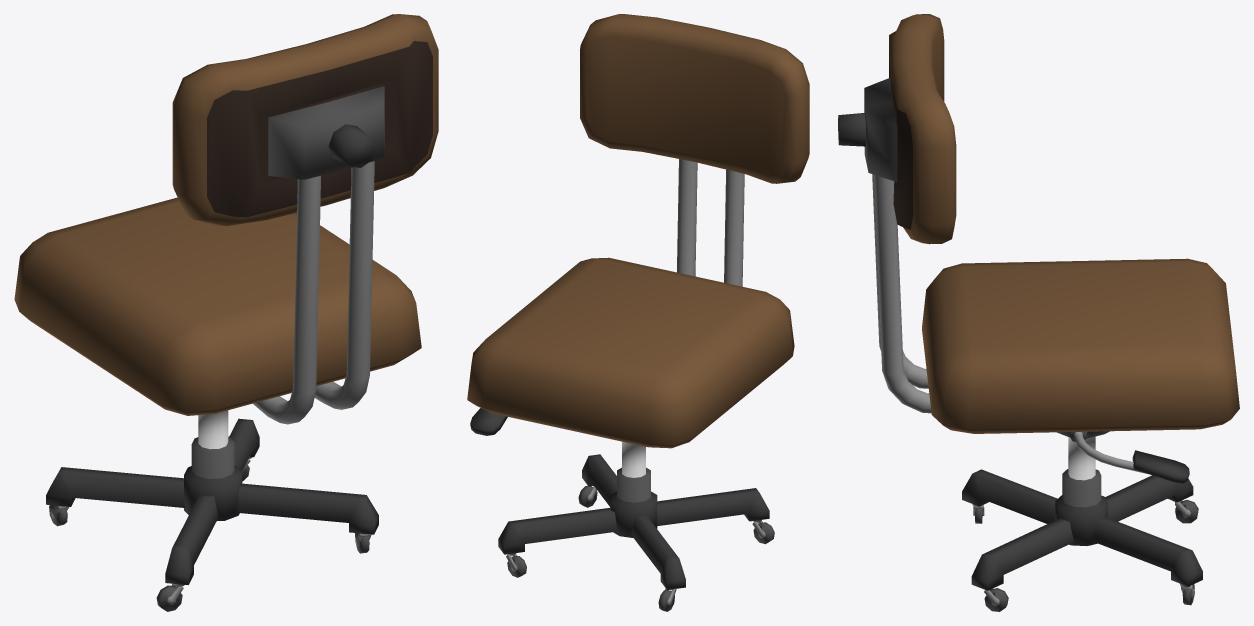
Rendered from Chair.glb.
3 views of the same model, side by side, from view 1: azimuth 30°, elevation 25°; view 2: azimuth 150°, elevation 25°; view 3: azimuth 270°, elevation 25° (orthographic). The views are drawn at different scales.
Parts seen in each view (by area): view 1: Cube.004; view 2: Cube.004; view 3: Cube.004.
Part boxes in pixels (left/top/right/bottom): Cube.004: left=14, top=14, right=438, bottom=611; Cube.004: left=467, top=14, right=809, bottom=611; Cube.004: left=838, top=14, right=1239, bottom=611.
Bounding box in the file's own units: 0.7192 × 1.41 × 0.9981.
